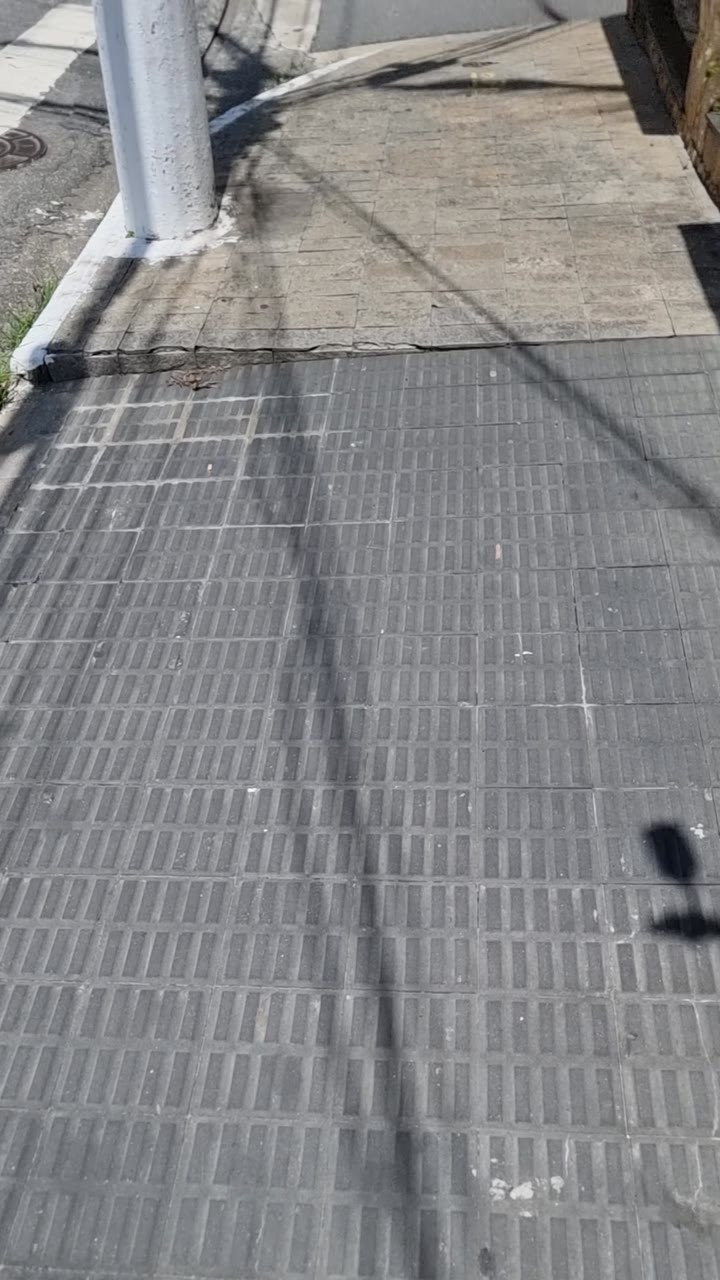desnivel: (0, 333, 720, 410)
obstaculo: (144, 0, 259, 256)
